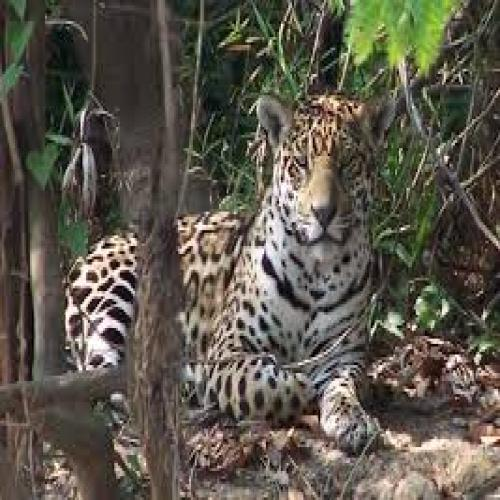jaguar_not-endangered: (64, 93, 398, 452)
